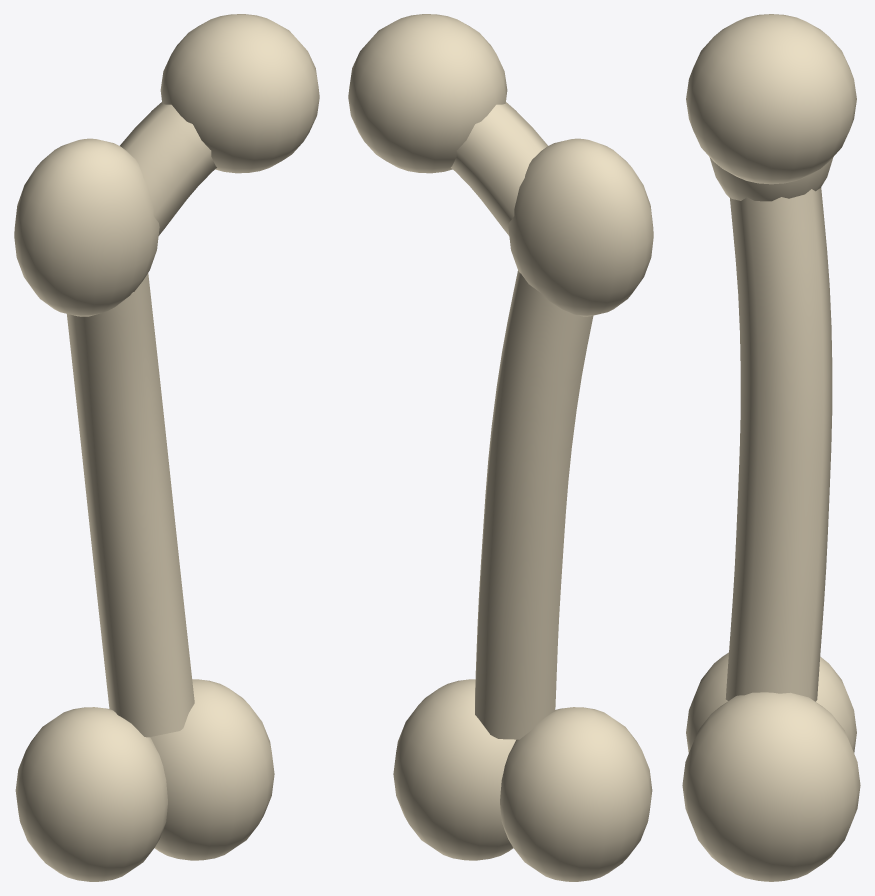
The model's file is bone.glb.
The picture shows the model from 3 angles, left to right: view 1: azimuth 30°, elevation 25°; view 2: azimuth 150°, elevation 25°; view 3: azimuth 270°, elevation 25°; orthographic projection. The views are drawn at different scales.
Visible parts, largest first — view 1: Femoral shaft; view 2: Femoral shaft; view 3: Femoral shaft.
Boxes of the visible parts, x1,y1,x2,y2 form: Femoral shaft: (14, 14, 319, 881); Femoral shaft: (348, 14, 653, 881); Femoral shaft: (682, 14, 860, 881).
Size of the model in its own units: 1 by 2.72 by 0.5.
